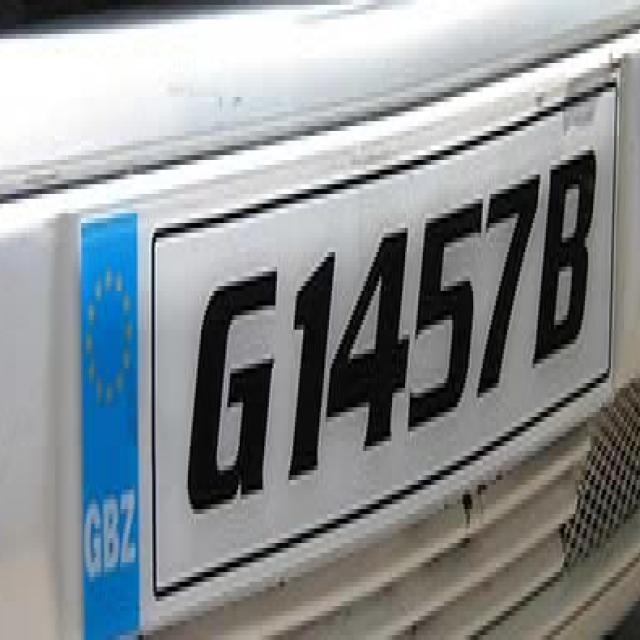Autre: (77, 85, 617, 635)
